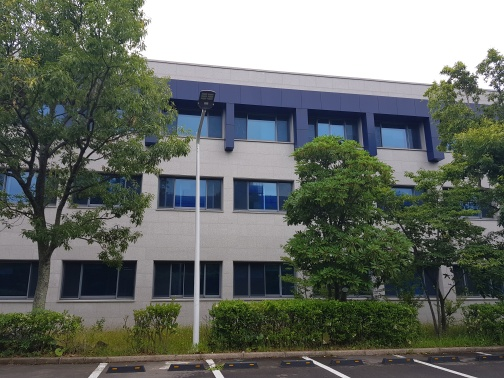College of Social Sciences: (102, 38, 500, 313)
